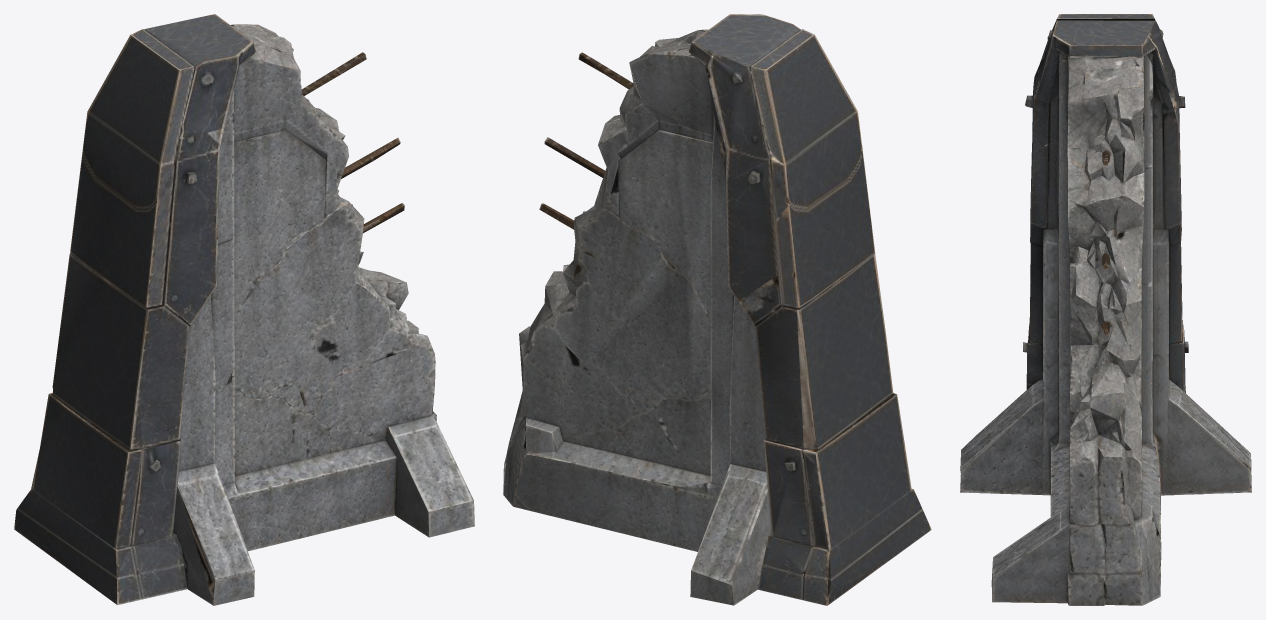
File: shared_rubble_kit__wall_stub_tall_lod1.glb
3 views of the same model, side by side, from view 1: azimuth 30°, elevation 25°; view 2: azimuth 150°, elevation 25°; view 3: azimuth 270°, elevation 25° (orthographic). The views are drawn at different scales.
Visible parts, largest first — view 1: mesh_node; view 2: mesh_node; view 3: mesh_node.
Boxes of the visible parts, box(x1,y1,x2,y2) form: mesh_node: box(14, 14, 474, 605); mesh_node: box(503, 14, 931, 605); mesh_node: box(960, 14, 1251, 605).
Size of the model in its own units: 4.35 by 5.79 by 3.23.
Materials: 1 (1 with a texture image).
